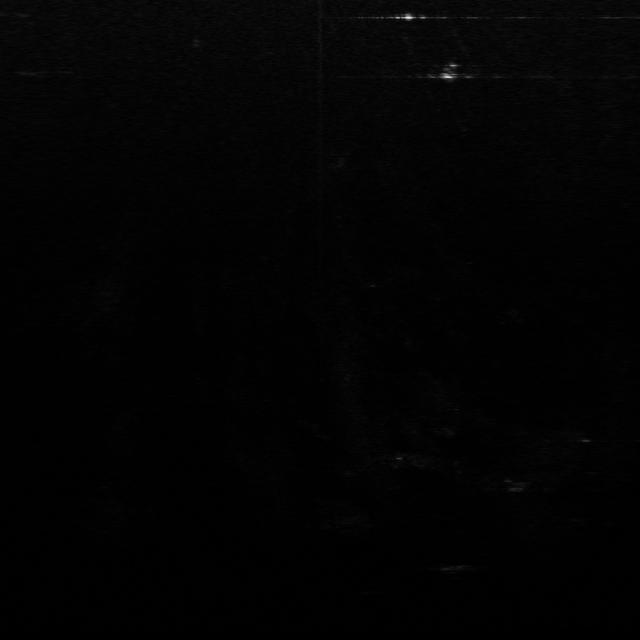rov: (434, 58, 470, 82)
